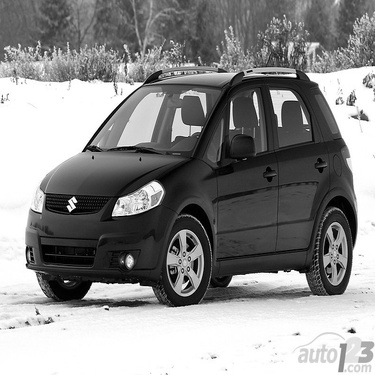car: (8, 50, 361, 299)
